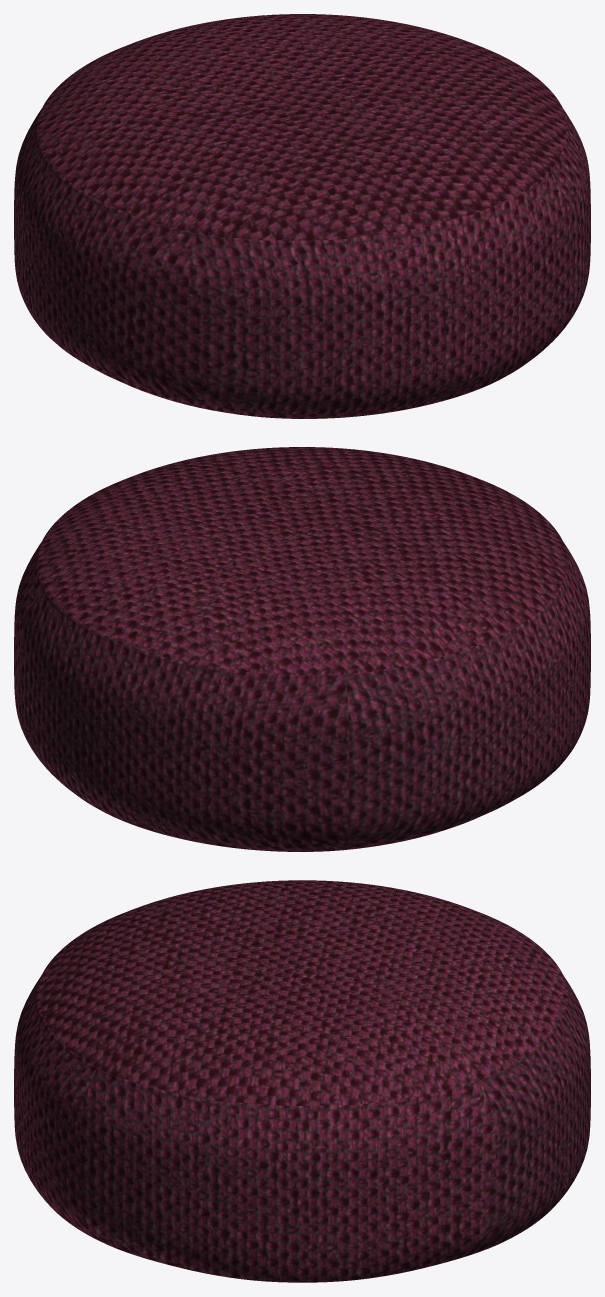
File: OaxacaMatrimonial.gltf
The picture shows the model from 3 angles, top to bottom: view 1: azimuth 30°, elevation 25°; view 2: azimuth 150°, elevation 25°; view 3: azimuth 270°, elevation 25°; orthographic projection.
Visible parts, largest first — view 1: Cylinder.001; view 2: Cylinder.001; view 3: Cylinder.001.
Boxes of the visible parts, box(x1,y1,x2,y2) form: Cylinder.001: box(14, 14, 590, 418); Cylinder.001: box(14, 447, 590, 851); Cylinder.001: box(14, 880, 590, 1282).
Bounding box in the file's own units: 7.5 × 3.25 × 7.5.
Materials: 1 (1 with a texture image).
